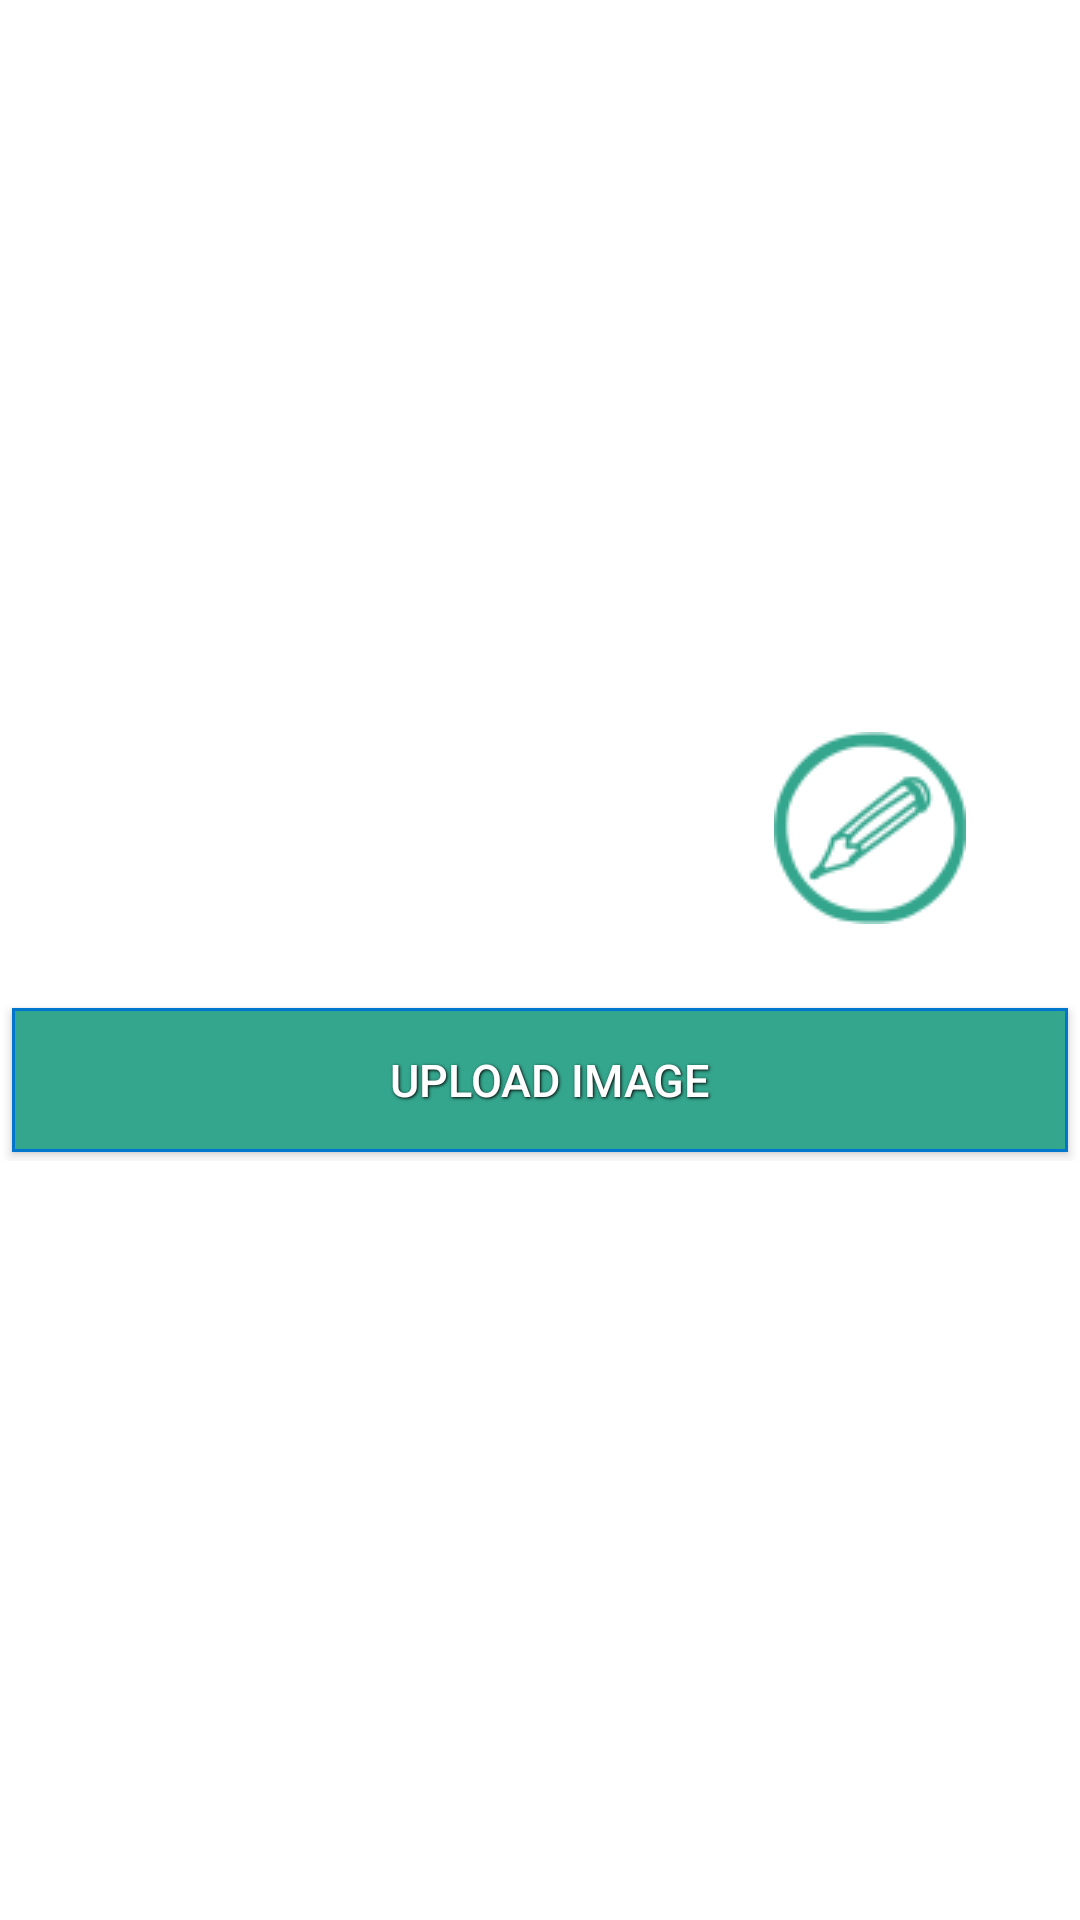

Screen size 1080 × 1920. Icon name, then its box in pixels as rect(x1, y1, x2, y2):
edit: rect(774, 732, 966, 924)
